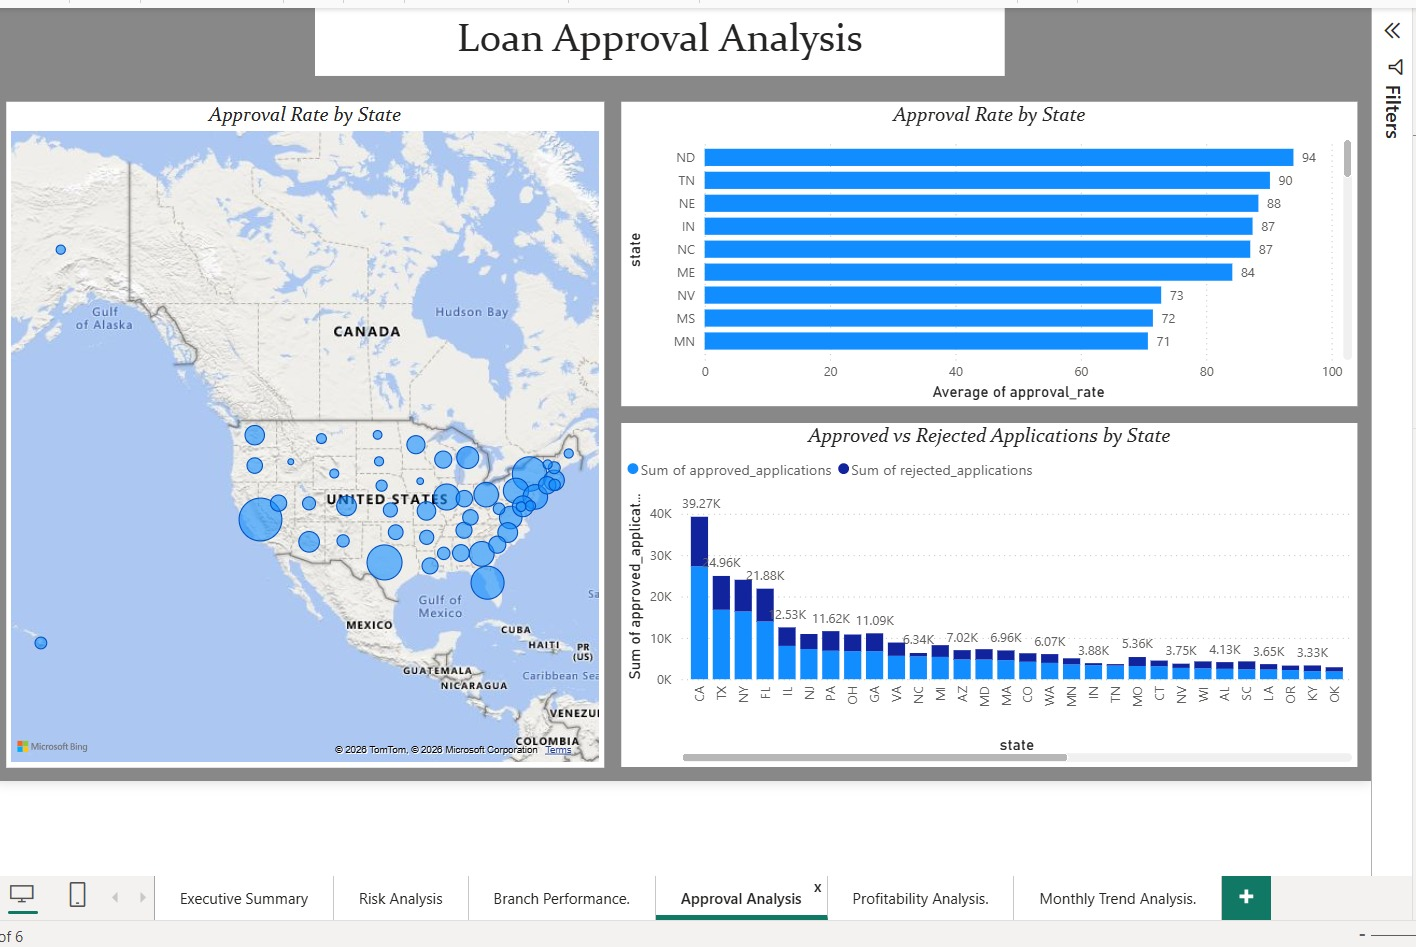

What the dashboard file says about the page in this screenshot:
{"tool":"powerbi","page":{"name":"Approval Analysis","canvas":[1280,720],"ordinal":3},"visuals":[{"type":"textbox","box":[297.7,0,641.5,63.2],"z":0},{"type":"map","title":"Approval Rate by State","fields":{"Category":["Approval Analysis.state"],"Size":["Sum(Approval Analysis.total_applications)"]},"box":[10.5,86.9,555.8,619.1],"z":1000},{"type":"clusteredBarChart","title":"Approval Rate by State","fields":{"Category":["Approval Analysis.state"],"Y":["Avg(Approval Analysis.approval_rate)"]},"box":[582.2,86.9,684.9,283.2],"z":2000},{"type":"columnChart","title":"Approved vs Rejected Applications by State","fields":{"Category":["Approval Analysis.state"],"Y":["Sum(Approval Analysis.approved_applications)","Sum(Approval Analysis.rejected_applications)"]},"box":[582.2,385.9,684.9,320.1],"z":3000}]}

Visuals, with their boxes in screenshot pixels (x1, y1, x2, y2):
textbox: 310 4 1010 73
"Approval Rate by State" map: 0 98 603 774
"Approval Rate by State" clusteredBarChart: 620 98 1368 407
"Approved vs Rejected Applications by State" columnChart: 620 425 1368 774
